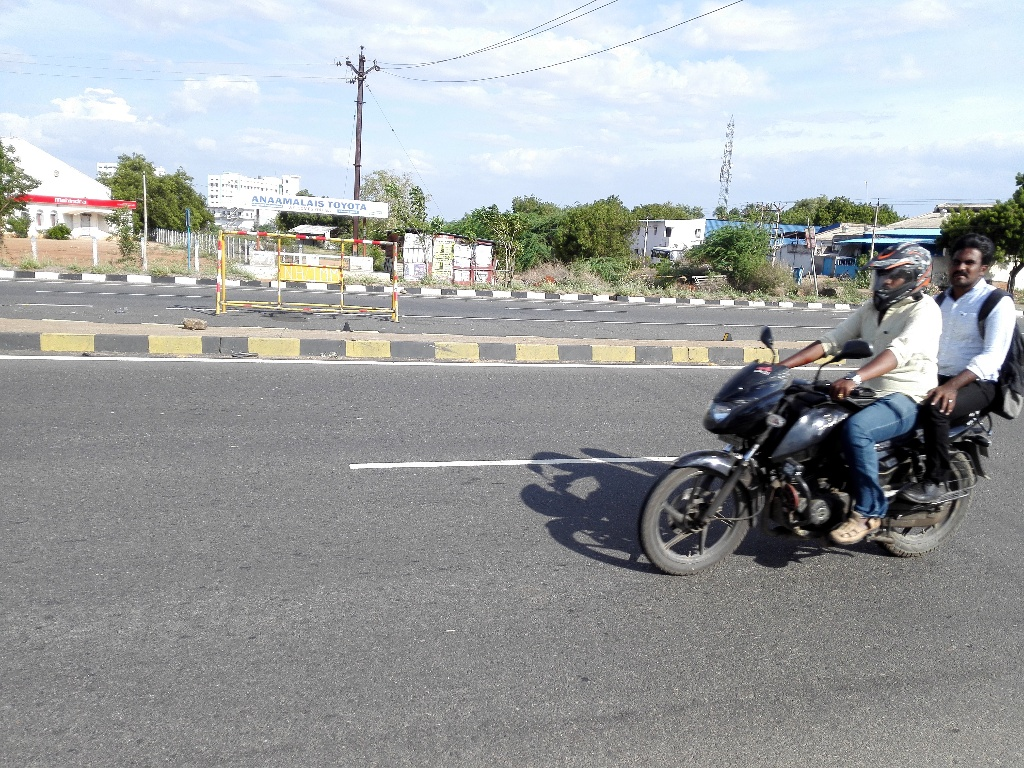biker: (630, 181, 1024, 583)
helmet: (860, 225, 939, 313)
nohelmet: (937, 220, 1012, 300)
